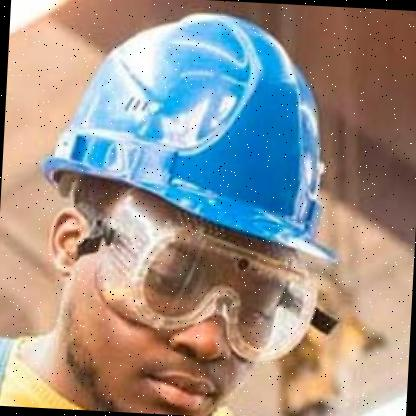capacete: (38, 1, 346, 236)
oculos: (57, 193, 332, 363)
